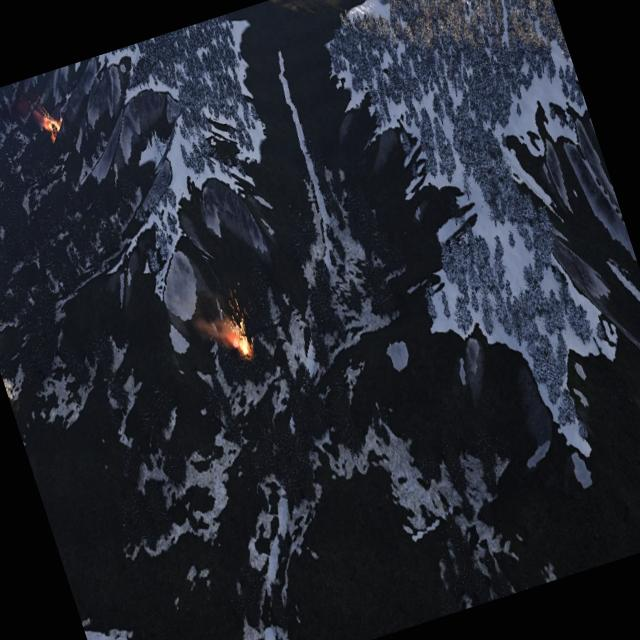fire: (216, 286, 262, 362), (38, 108, 66, 144)
smoke: (189, 293, 246, 357), (0, 77, 49, 134)
